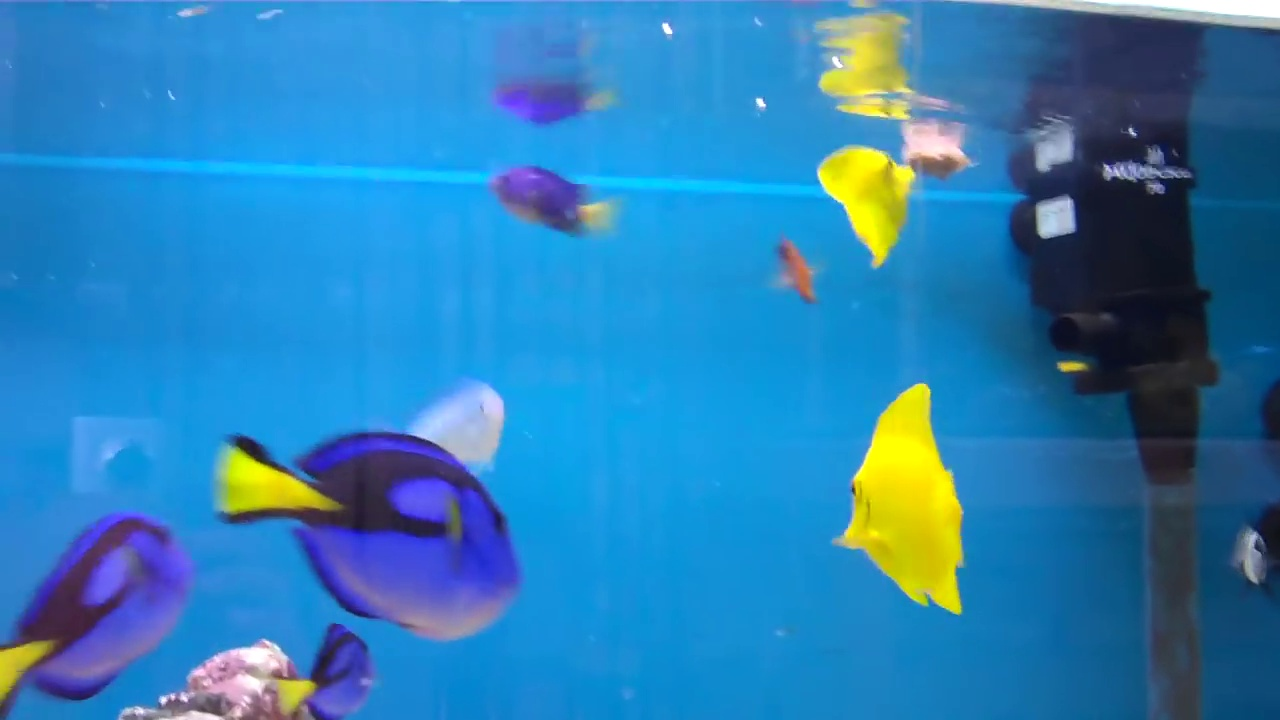blue tang surgeonfish: (213, 419, 529, 653), (0, 499, 191, 720), (272, 629, 378, 712)
saddle butterfly fish: (817, 379, 980, 636), (810, 124, 933, 266)
